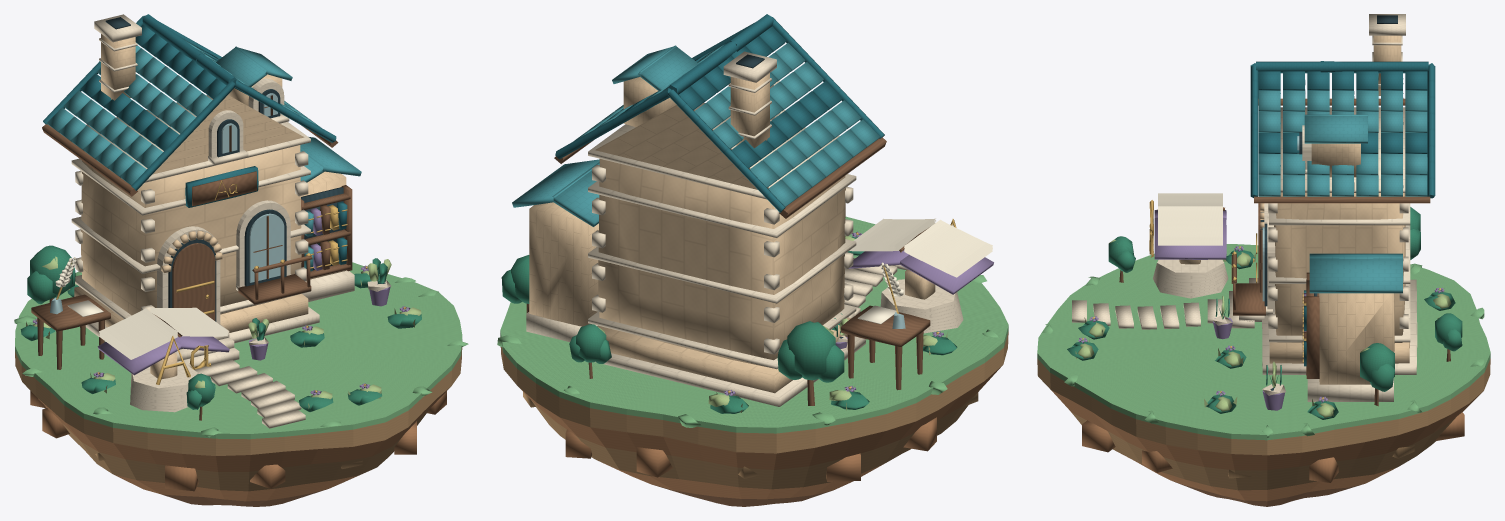
3 renders of one model, left to right at view 1: azimuth 30°, elevation 25°; view 2: azimuth 150°, elevation 25°; view 3: azimuth 270°, elevation 25°, orthographic. The views are drawn at different scales.
Visible parts, largest first — view 1: language-world_Soft meadow grass and rim moss, language-world_Warm cream library masonry, language-world_Ivory bevelled plinth paths and carved frames, language-world_Sunlit pale cliff shelves, language-world_Individually glazed teal roof panels, language-world_Walnut door planks shelves and quill desk, language-world_Warm weathered sandstone cliff, language-world_Dark teal eaves and ridge caps, language-world_Sculpted jade canopy and garden leaves, language-world_Warm ivory sculpted book paper, language-world_Dusty lavender book covers and blossoms, language-world_Deep door window and shelf recess (+4 smaller); view 2: language-world_Warm cream library masonry, language-world_Soft meadow grass and rim moss, language-world_Ivory bevelled plinth paths and carved frames, language-world_Sunlit pale cliff shelves, language-world_Individually glazed teal roof panels, language-world_Warm weathered sandstone cliff, language-world_Dark teal eaves and ridge caps, language-world_Sculpted jade canopy and garden leaves, language-world_Warm ivory sculpted book paper, language-world_Walnut door planks shelves and quill desk, language-world_Dusty lavender book covers and blossoms, language-world_Deep layered ochre cliff strata (+1 smaller); view 3: language-world_Soft meadow grass and rim moss, language-world_Individually glazed teal roof panels, language-world_Warm cream library masonry, language-world_Ivory bevelled plinth paths and carved frames, language-world_Sunlit pale cliff shelves, language-world_Warm weathered sandstone cliff, language-world_Dark teal eaves and ridge caps, language-world_Sculpted jade canopy and garden leaves, language-world_Walnut door planks shelves and quill desk, language-world_Warm ivory sculpted book paper, language-world_Dusty lavender book covers and blossoms, language-world_Sunlit sage leaf tips (+3 smaller).
Part boxes in pixels (bbox=[...]): language-world_Soft meadow grass and rim moss: bbox=[14, 262, 468, 439]; language-world_Warm cream library masonry: bbox=[74, 34, 346, 378]; language-world_Ivory bevelled plinth paths and carved frames: bbox=[71, 14, 391, 428]; language-world_Sunlit pale cliff shelves: bbox=[15, 347, 462, 491]; language-world_Individually glazed teal roof panels: bbox=[47, 39, 361, 271]; language-world_Walnut door planks shelves and quill desk: bbox=[31, 95, 352, 420]; language-world_Warm weathered sandstone cliff: bbox=[30, 387, 450, 501]; language-world_Dark teal eaves and ridge caps: bbox=[43, 14, 347, 264]; language-world_Sculpted jade canopy and garden leaves: bbox=[20, 245, 421, 411]; language-world_Warm ivory sculpted book paper: bbox=[55, 257, 228, 359]; language-world_Dusty lavender book covers and blossoms: bbox=[32, 208, 410, 395]; language-world_Deep door window and shelf recess: bbox=[105, 17, 385, 321]; language-world_Warm cream library masonry: bbox=[529, 73, 935, 393]; language-world_Soft meadow grass and rim moss: bbox=[497, 216, 1008, 433]; language-world_Ivory bevelled plinth paths and carved frames: bbox=[526, 51, 963, 406]; language-world_Sunlit pale cliff shelves: bbox=[500, 331, 1008, 489]; language-world_Individually glazed teal roof panels: bbox=[512, 43, 879, 226]; language-world_Warm weathered sandstone cliff: bbox=[519, 365, 1002, 499]; language-world_Dark teal eaves and ridge caps: bbox=[555, 14, 884, 212]; language-world_Sculpted jade canopy and garden leaves: bbox=[501, 236, 957, 413]; language-world_Warm ivory sculpted book paper: bbox=[849, 218, 992, 324]; language-world_Walnut door planks shelves and quill desk: bbox=[526, 137, 930, 405]; language-world_Dusty lavender book covers and blossoms: bbox=[723, 231, 993, 395]; language-world_Deep layered ochre cliff strata: bbox=[655, 485, 831, 506]; language-world_Soft meadow grass and rim moss: bbox=[1037, 244, 1490, 440]; language-world_Individually glazed teal roof panels: bbox=[1258, 73, 1427, 293]; language-world_Warm cream library masonry: bbox=[1179, 35, 1409, 384]; language-world_Ivory bevelled plinth paths and carved frames: bbox=[1072, 14, 1417, 401]; language-world_Sunlit pale cliff shelves: bbox=[1037, 358, 1490, 490]; language-world_Warm weathered sandstone cliff: bbox=[1051, 390, 1483, 501]; language-world_Dark teal eaves and ridge caps: bbox=[1250, 61, 1435, 366]; language-world_Sculpted jade canopy and garden leaves: bbox=[1067, 207, 1462, 419]; language-world_Walnut door planks shelves and quill desk: bbox=[1119, 98, 1450, 406]; language-world_Warm ivory sculpted book paper: bbox=[1158, 193, 1222, 245]; language-world_Dusty lavender book covers and blossoms: bbox=[1078, 210, 1444, 410]; language-world_Sunlit sage leaf tips: bbox=[1075, 239, 1451, 417].
Bounding box in the file's own units: 4.12 × 4.37 × 4.08.
16 materials, 16 textured.
